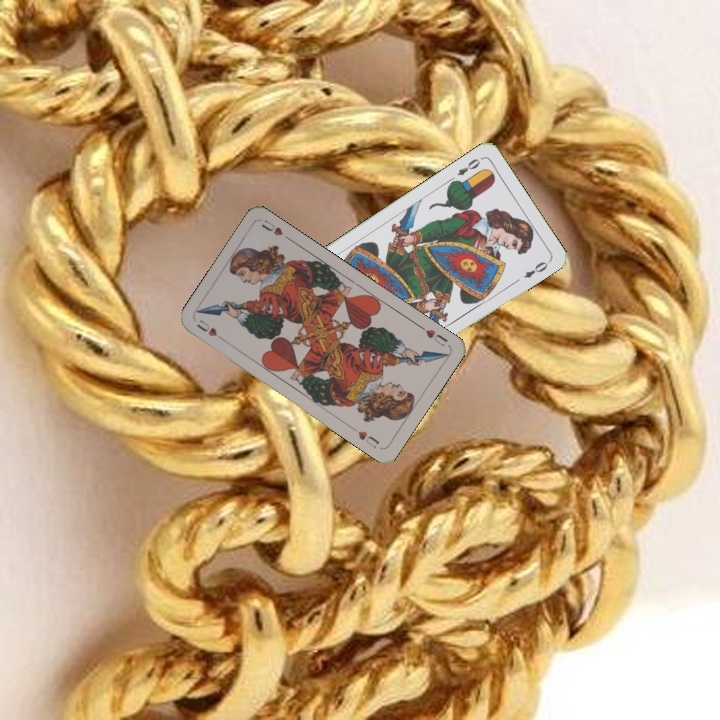EO: (452, 154, 483, 178)
HU: (193, 316, 228, 344), (415, 322, 451, 349)
